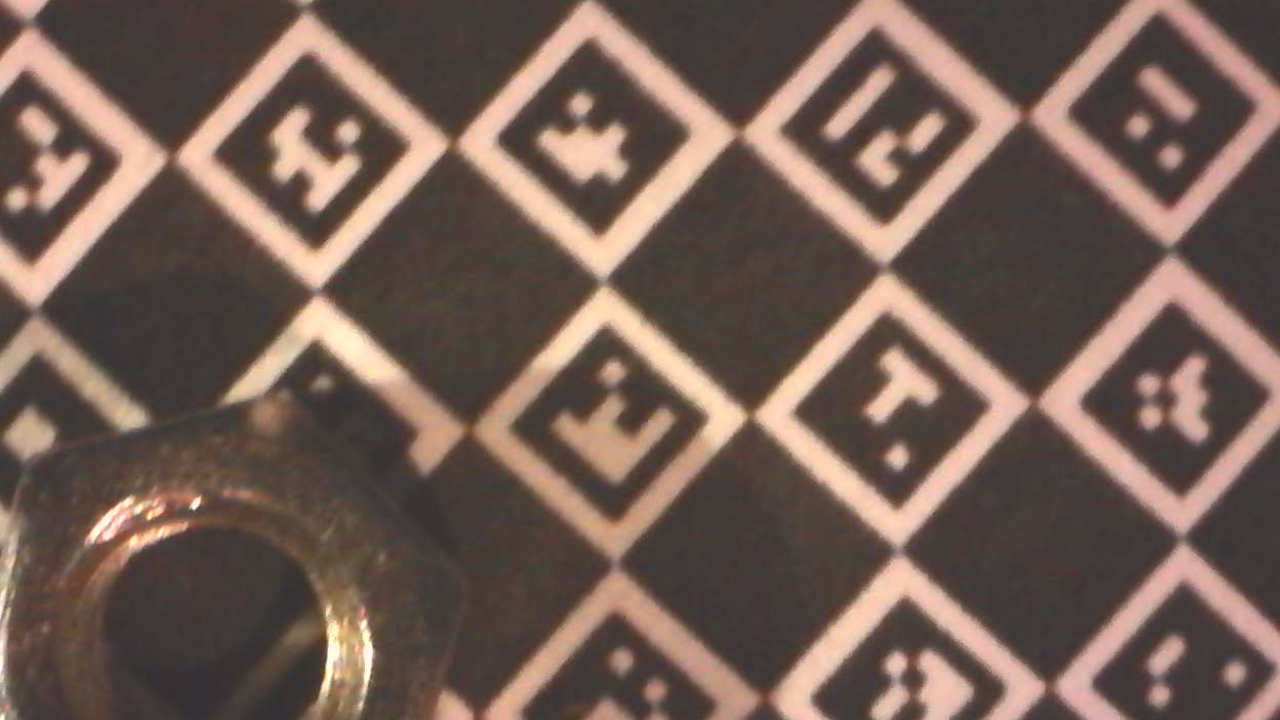Bolt: (0, 393, 479, 719)
